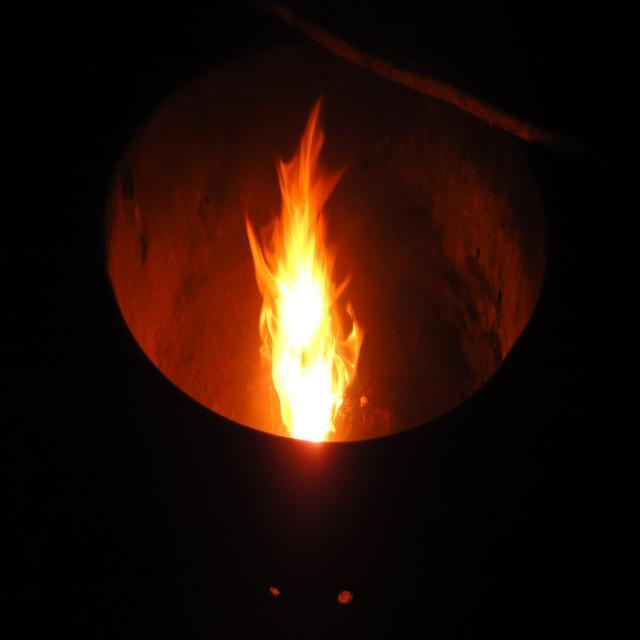Fire: (264, 202, 348, 426)
